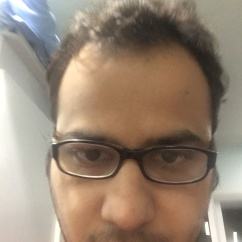glasses: (50, 135, 214, 182)
